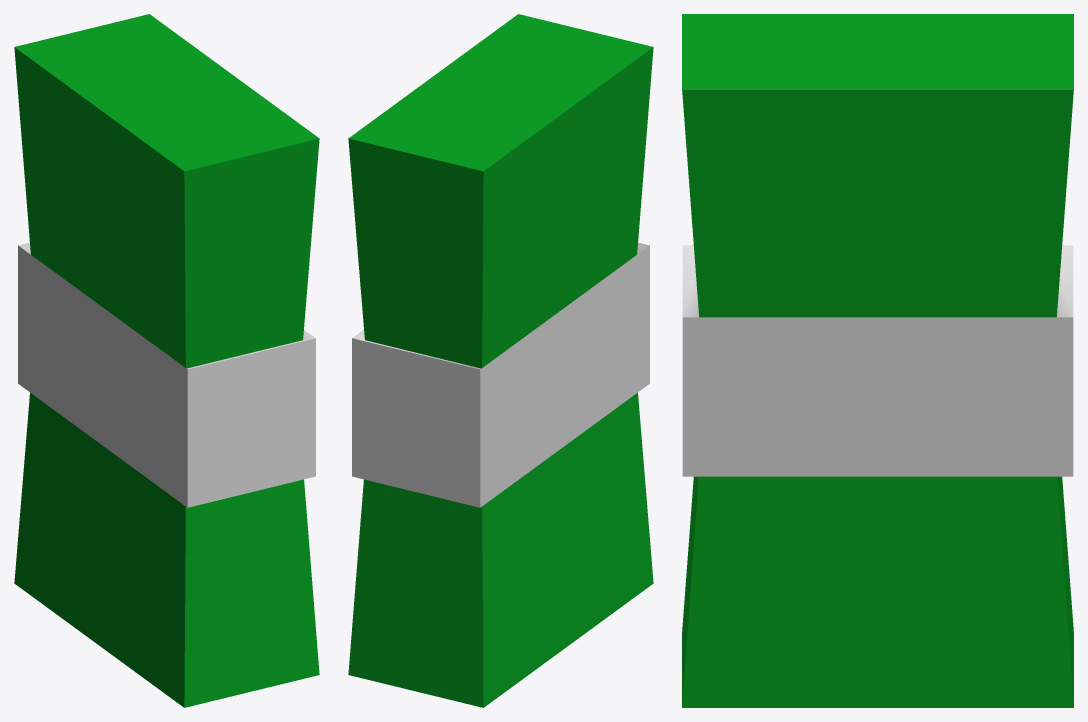
The model's file is singleMoney.fbx.
The picture shows the model from 3 angles, left to right: view 1: azimuth 30°, elevation 25°; view 2: azimuth 150°, elevation 25°; view 3: azimuth 270°, elevation 25°; orthographic projection. The views are drawn at different scales.
Visible parts, largest first — view 1: Money; view 2: Money; view 3: Money.
Part boxes in pixels (x1,y1,x2,y2): Money: [14, 14, 319, 707]; Money: [348, 14, 653, 707]; Money: [682, 14, 1073, 707].
Bounding box in the file's own units: 55.94 × 212 × 122.
